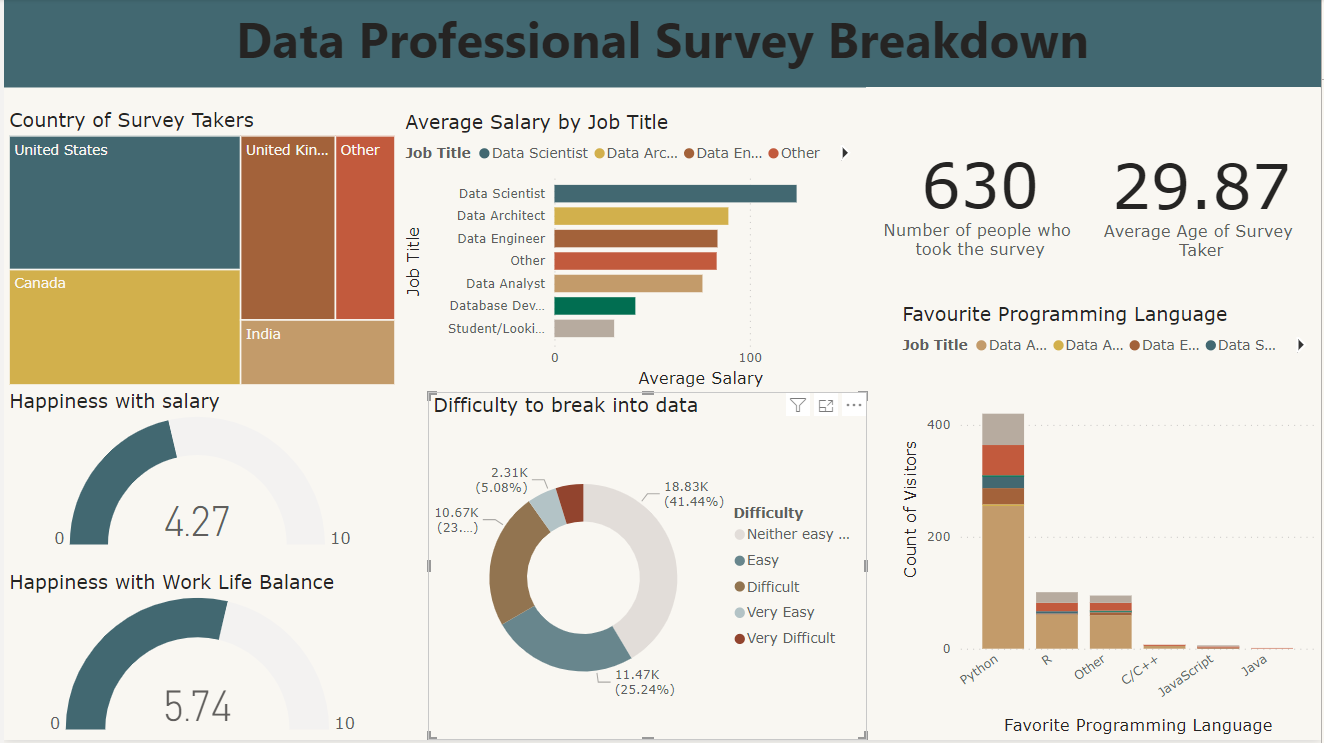

This screenshot's page, from the dashboard's own definition file:
{"tool":"powerbi","page":{"name":"Page 1","canvas":[1280,720],"ordinal":0},"visuals":[{"type":"textbox","box":[0,0,1280,86],"z":0},{"type":"card","fields":{"Values":["Count(Data Professional Survey.Unique ID)"]},"box":[838,86,222,202],"z":1000},{"type":"card","fields":{"Values":["Avg(Data Professional Survey.Q10 - Current Age)"]},"box":[1048,86,232,204],"z":2000},{"type":"barChart","title":"Average Salary by Job Title","fields":{"Category":["Data Professional Survey.Q1 - Which Title Best Fits your Current Role?.1"],"Y":["Avg(Data Professional Survey.Average Salary)"],"Series":["Data Professional Survey.Q1 - Which Title Best Fits your Current Role?.1"]},"box":[385,106.7,451.7,275],"z":3000},{"type":"columnChart","title":"Favourite Programming Language","fields":{"Category":["Data Professional Survey.Q5 - Favorite Programming Language.1"],"Y":["CountNonNull(Data Professional Survey.Unique ID)"],"Series":["Data Professional Survey.Q1 - Which Title Best Fits your Current Role?.1"]},"box":[868,294,412,426],"z":4000},{"type":"treemap","title":"Country of Survey Takers","fields":{"Group":["Data Professional Survey.Q11 - Which Country do you live in?.1"],"Values":["Avg(Data Professional Survey.Average Salary)"]},"box":[0,105,385,275],"z":5000},{"type":"gauge","title":"Happiness with Work Life Balance","fields":{"Y":["Avg(Data Professional Survey.Q6 - How Happy are you in your Current Position with the following? (Work/Life Balance))"],"MinValue":["Min(Data Professional Survey.Q6 - How Happy are you in your Current Position with the following? (Work/Life Balance))"],"MaxValue":["Max(Data Professional Survey.Q6 - How Happy are you in your Current Position with the following? (Work/Life Balance))"]},"box":[0,554,386,166],"z":6000},{"type":"gauge","title":"Happiness with salary","fields":{"Y":["Avg(Data Professional Survey.Q6 - How Happy are you in your Current Position with the following? (Salary))"],"MinValue":["Min(Data Professional Survey.Q6 - How Happy are you in your Current Position with the following? (Salary))1"],"MaxValue":["Max(Data Professional Survey.Q6 - How Happy are you in your Current Position with the following? (Salary))2"]},"box":[0,378,386,162],"z":7000},{"type":"donutChart","title":"Difficulty to break into data","fields":{"Category":["Data Professional Survey.Q7 - How difficult was it for you to break into Data?"],"Y":["Sum(Data Professional Survey.Average Salary)"]},"box":[411.7,381.7,426.7,338.3],"z":8000}]}

Visuals, with their boxes in screenshot pixels (x1, y1, x2, y2), scaled from the page's 1280x720 canvas onto the 1324x743 screenshot:
textbox: bbox(0, 0, 1323, 89)
card - Count(Data Professional Survey.Unique ID): bbox(867, 89, 1096, 297)
card - Avg(Data Professional Survey.Q10 - Current Age): bbox(1084, 89, 1323, 299)
"Average Salary by Job Title" barChart: bbox(398, 110, 865, 394)
"Favourite Programming Language" columnChart: bbox(898, 303, 1323, 742)
"Country of Survey Takers" treemap: bbox(0, 108, 398, 392)
"Happiness with Work Life Balance" gauge: bbox(0, 572, 399, 742)
"Happiness with salary" gauge: bbox(0, 390, 399, 557)
"Difficulty to break into data" donutChart: bbox(426, 394, 867, 742)
